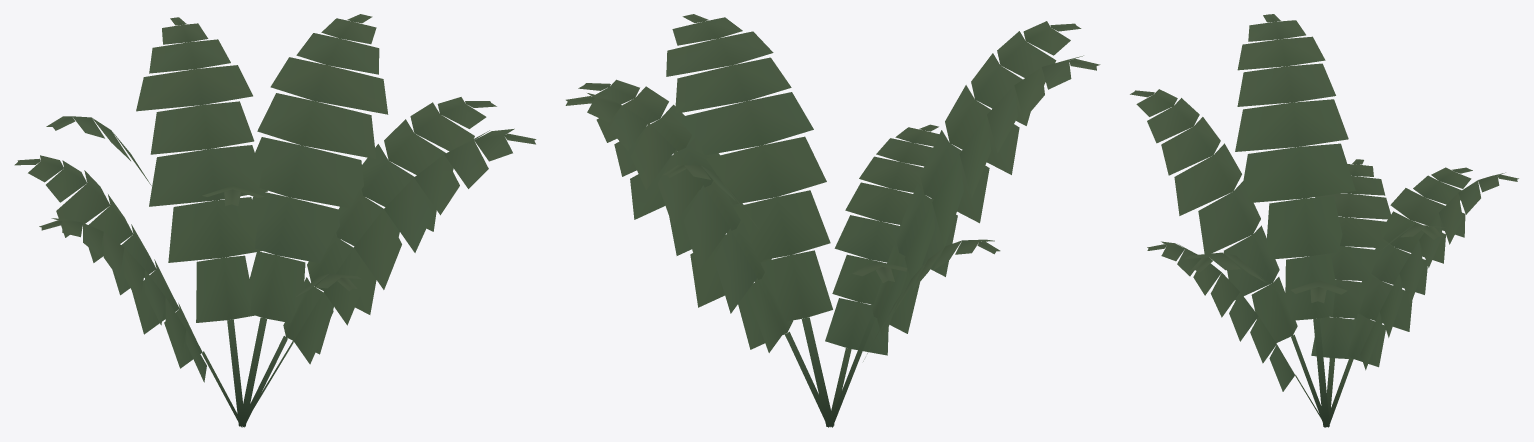
The model's file is farn_mittel.glb.
The picture shows the model from 3 angles, left to right: view 1: azimuth 30°, elevation 25°; view 2: azimuth 150°, elevation 25°; view 3: azimuth 270°, elevation 25°; orthographic projection. The views are drawn at different scales.
Visible parts, largest first — view 1: farn_mittel; view 2: farn_mittel; view 3: farn_mittel.
Part boxes in pixels (box(x1,y1,x2,y2)): farn_mittel: box(14, 14, 536, 427); farn_mittel: box(565, 14, 1100, 427); farn_mittel: box(1130, 14, 1518, 427).
Bounding box in the file's own units: 1.11 × 0.85 × 0.9327.
